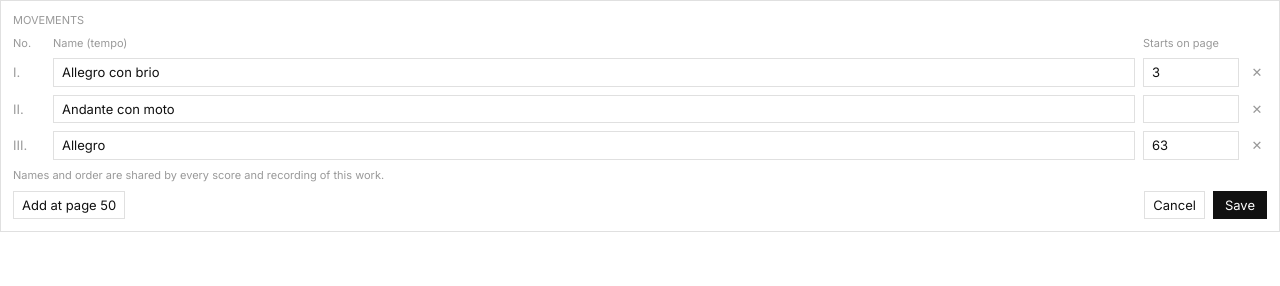
it: ScoreMovementEditor › inserts a movement at the current page in page order
Click the button "Add at page 50": (69, 205) [13,191,125,219]
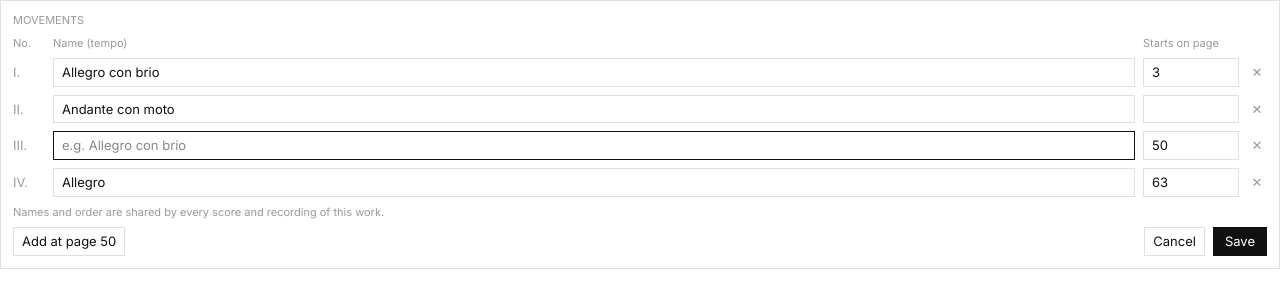
expect the number field named "Movement III start page" holds "50": met, box [1143,131,1239,160]
